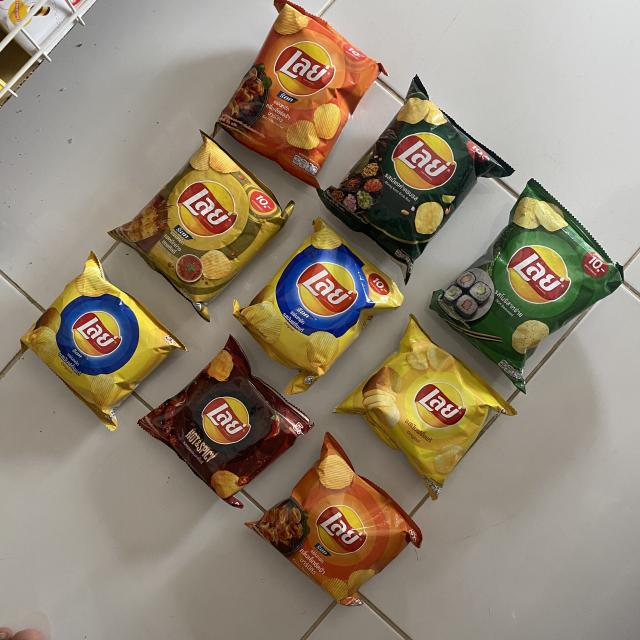plastik: (430, 179, 622, 392), (318, 76, 514, 282), (110, 132, 291, 320), (335, 315, 516, 500), (215, 0, 386, 188), (245, 432, 422, 606), (234, 218, 404, 394), (139, 336, 312, 508), (20, 252, 185, 430)
